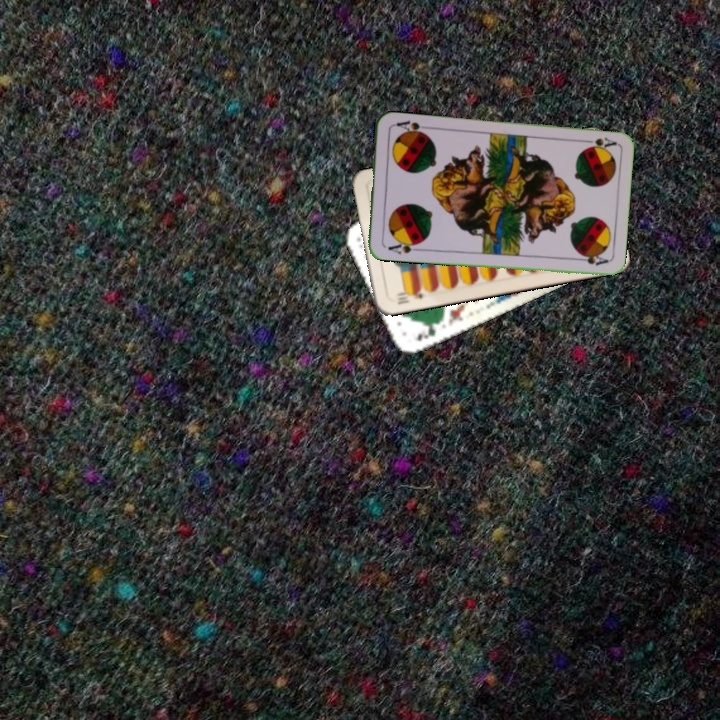E10: (393, 285, 425, 307)
GK: (413, 317, 443, 343)
SA: (384, 236, 421, 257), (578, 133, 618, 152)
